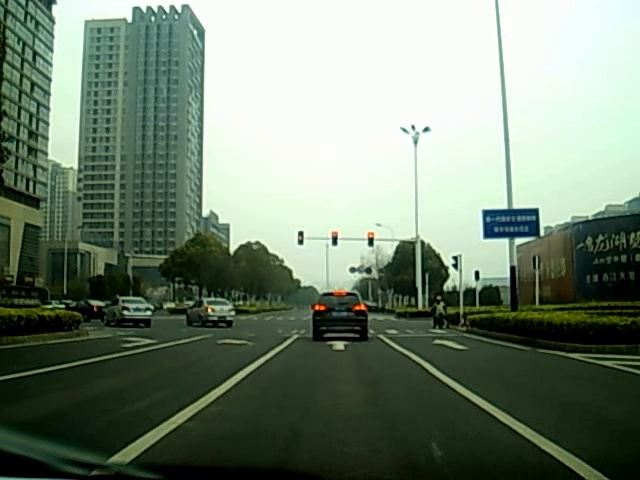Traffic_Light_stop: (367, 231, 375, 249), (330, 231, 337, 247)
